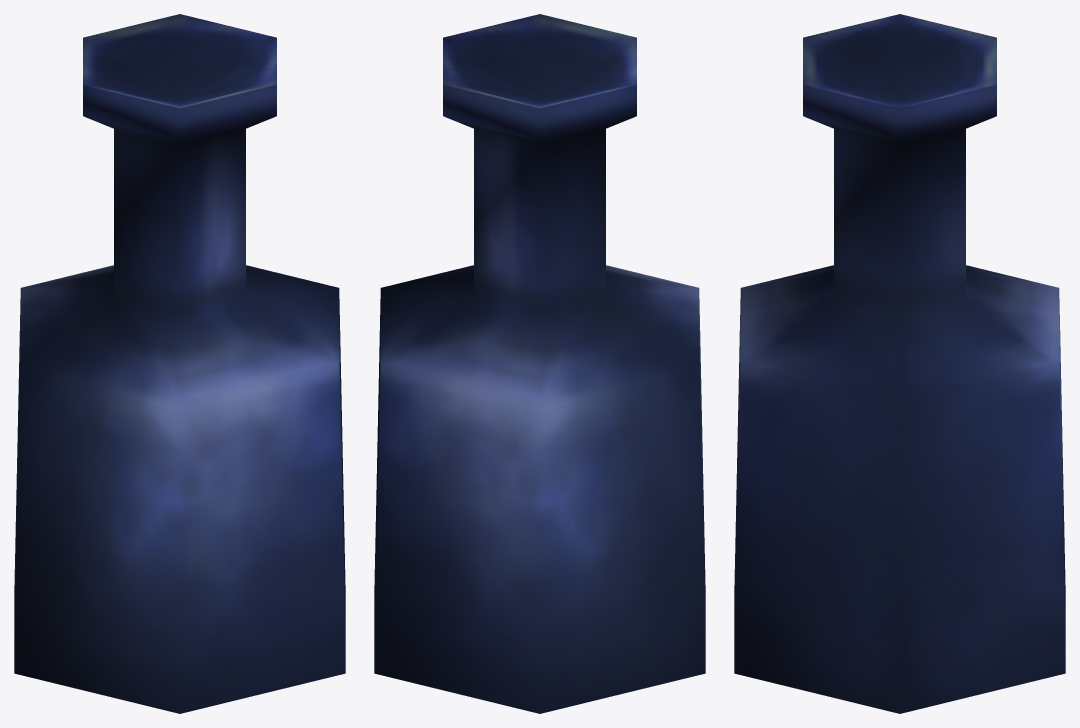
Rendered from F_pingzi005.fbx.
3 renders of one model, left to right at view 1: azimuth 30°, elevation 25°; view 2: azimuth 150°, elevation 25°; view 3: azimuth 270°, elevation 25°, orthographic.
Parts seen in each view (by area): view 1: F_pingzi005; view 2: F_pingzi005; view 3: F_pingzi005.
Boxes of the visible parts, left/top/right/bottom form: F_pingzi005: left=14, top=14, right=345, bottom=713; F_pingzi005: left=374, top=14, right=705, bottom=713; F_pingzi005: left=734, top=14, right=1065, bottom=713.
Size of the model in its own units: 17.13 by 28.26 by 14.84.
